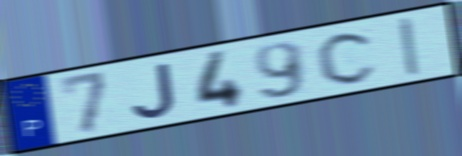4: (192, 47, 247, 111)
7: (58, 67, 110, 136)
9: (253, 38, 309, 100)
C: (314, 29, 380, 87)
I: (395, 14, 422, 79)
J: (130, 60, 180, 120)
